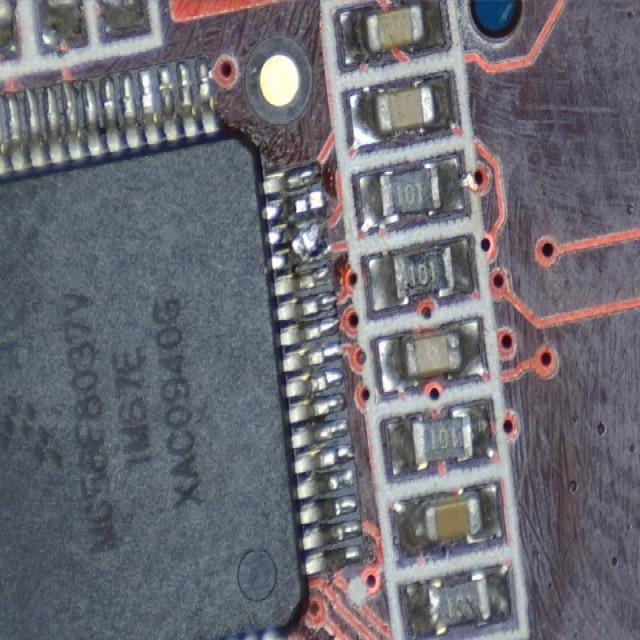Short_circuit: (268, 223, 329, 271)
